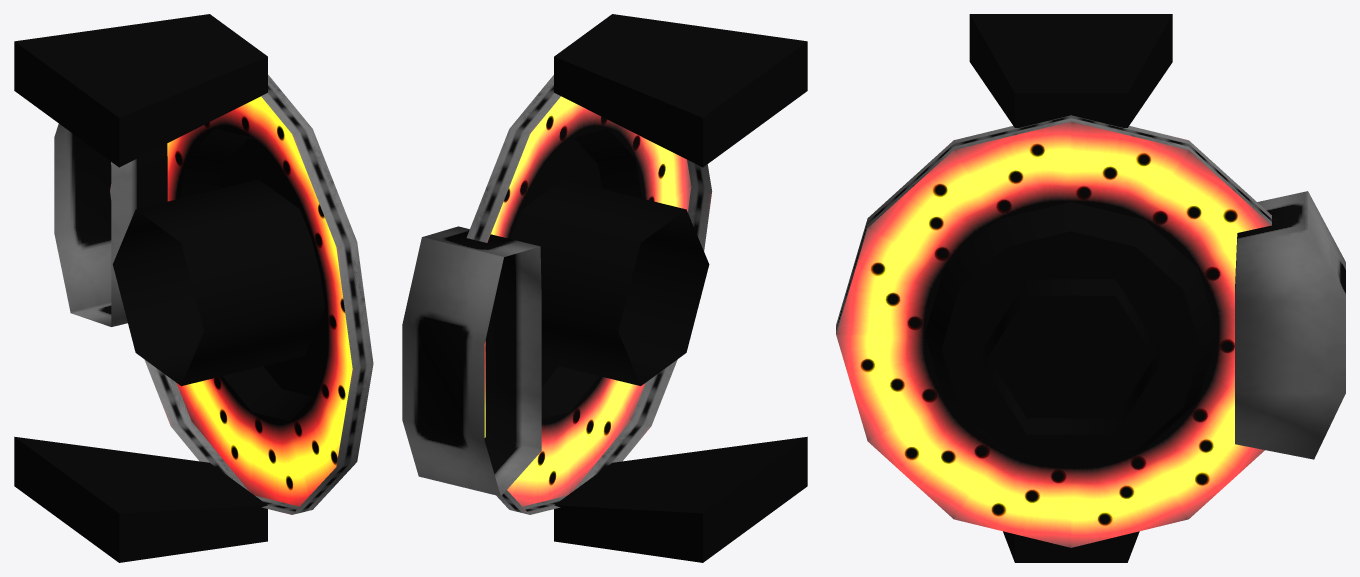
The model's file is WheelHubBrake.fbx.
3 views of the same model, side by side, from view 1: azimuth 30°, elevation 25°; view 2: azimuth 150°, elevation 25°; view 3: azimuth 270°, elevation 25° (orthographic). The views are drawn at different scales.
Parts seen in each view (by area): view 1: Suspension arms, Brake disc, Axle, Brake Caliper; view 2: Suspension arms, Brake Caliper, Brake disc, Axle; view 3: Brake disc, Brake Caliper, Suspension arms, Axle.
Boxes of the visible parts, x1=… form: Suspension arms: x1=14, y1=14, x2=267, y2=562; Brake disc: x1=110, y1=75, x2=373, y2=514; Axle: x1=113, y1=179, x2=324, y2=386; Brake Caliper: x1=54, y1=123, x2=167, y2=326; Suspension arms: x1=554, y1=14, x2=807, y2=562; Brake Caliper: x1=402, y1=226, x2=541, y2=496; Brake disc: x1=466, y1=75, x2=712, y2=514; Axle: x1=511, y1=179, x2=709, y2=385; Brake disc: x1=836, y1=115, x2=1271, y2=547; Brake Caliper: x1=1235, y1=191, x2=1345, y2=459; Suspension arms: x1=969, y1=14, x2=1172, y2=562; Axle: x1=982, y1=279, x2=1159, y2=434.
Size of the model in its own units: 18.35 by 34.05 by 33.48.
